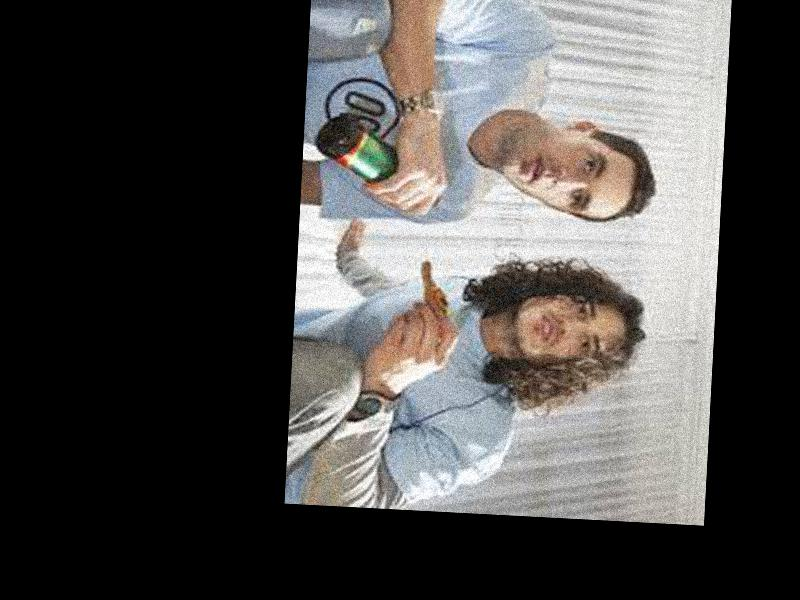Beer: (311, 111, 444, 207)
